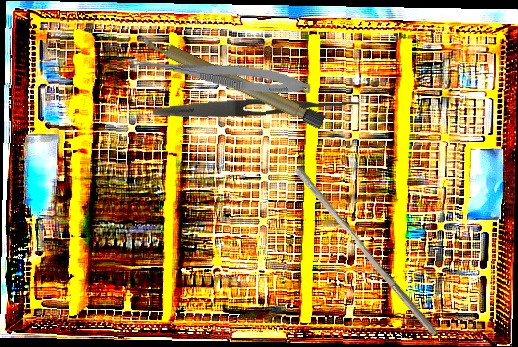Dressing Forceps: (152, 92, 360, 122)
Micro Scissor: (122, 51, 313, 100)
Pusher: (286, 164, 447, 339)
Scalpel Handle: (138, 30, 327, 130)
